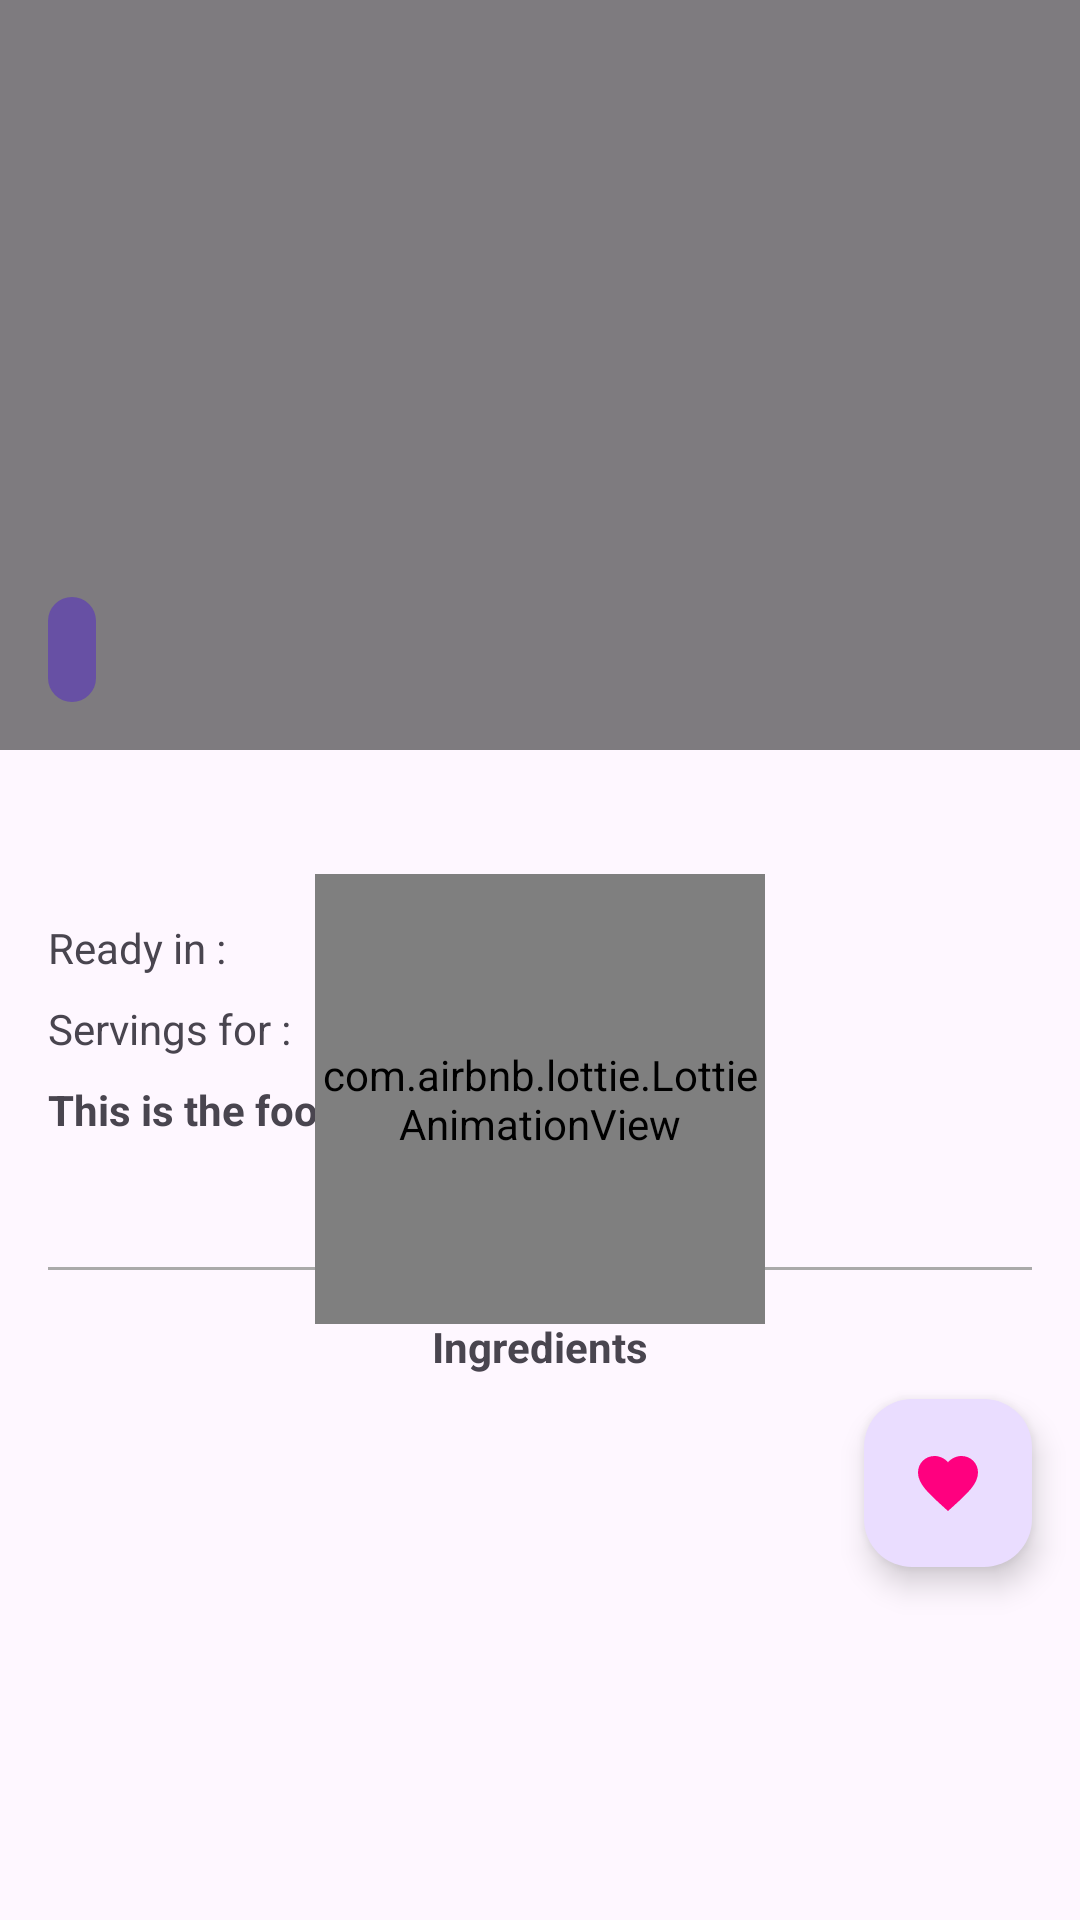

Named icons in this screenshot (1080px x 1920px) and their centers, (x=x, y=y):
favorite: (x=948, y=1483)
